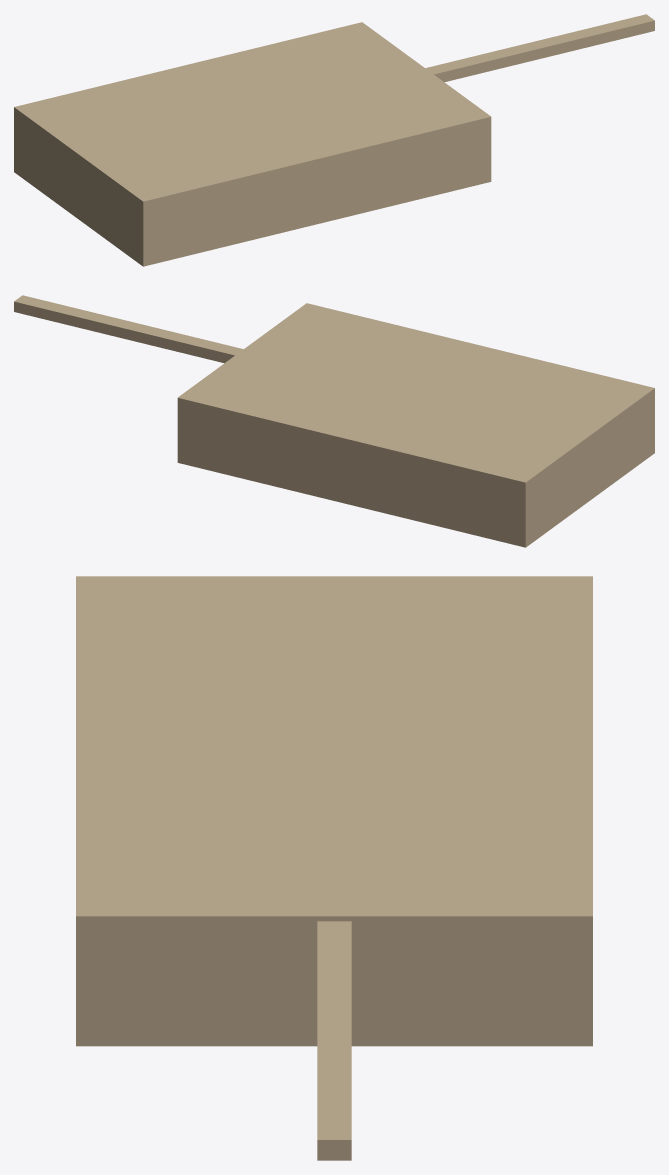
File: caixa_de_massa.glb
3 views of the same model, one above another, from view 1: azimuth 30°, elevation 25°; view 2: azimuth 150°, elevation 25°; view 3: azimuth 270°, elevation 25° (orthographic). The views are drawn at different scales.
Visible parts, largest first — view 1: Malha_0; view 2: Malha_0; view 3: Malha_0.
Part boxes in pixels (bbox=[...]): Malha_0: bbox=[14, 14, 654, 266]; Malha_0: bbox=[14, 295, 654, 547]; Malha_0: bbox=[76, 576, 592, 1160].
Bounding box in the file's own units: 2.3 × 0.25 × 0.9.
